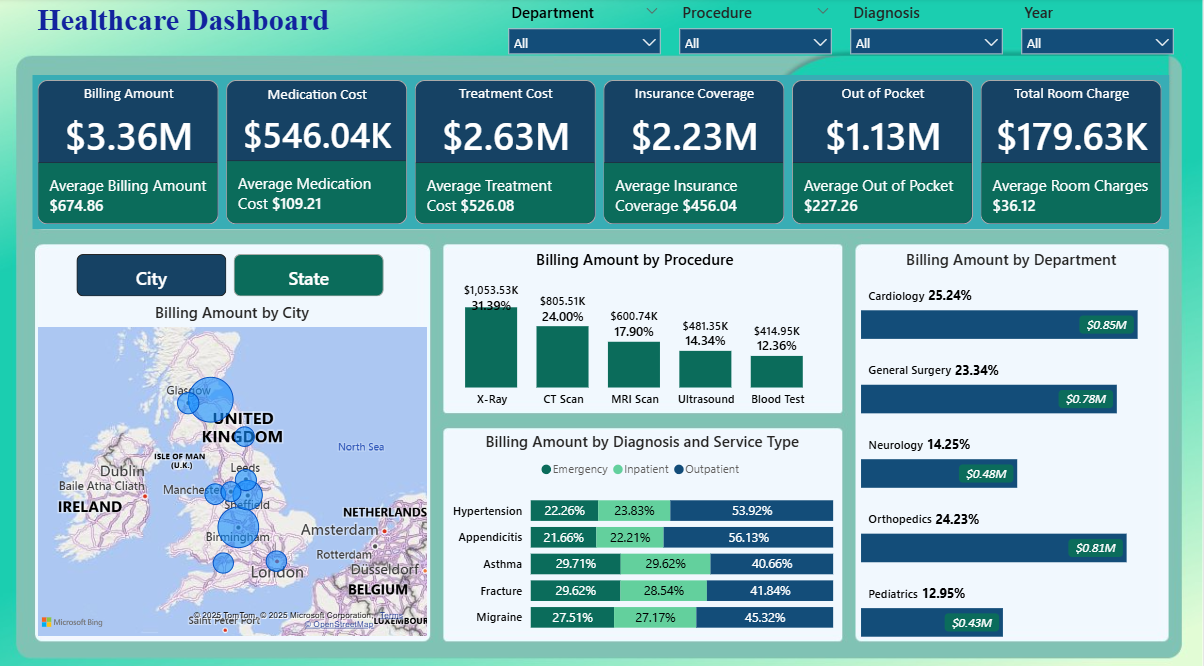

The page's visual inventory and layout, read from the dashboard file:
{"tool":"powerbi","page":{"name":"Healthcare","canvas":[1280,720],"ordinal":0},"visuals":[{"type":"cardVisual","fields":{"Data":["_Measure Table.Total Billing Amount","_Measure Table.Total Medication Cost","_Measure Table.Total Treatment Cost","_Measure Table.Total Insurance Coverage","_Measure Table.Out of Pocket","_Measure Table.Total Room Charge"]},"box":[39.8,82.7,1205,163],"z":0},{"type":"map","title":"Billing Amount by City","fields":{"Category":["Cities Table.City"],"Size":["_Measure Table.Total Billing Amount"]},"box":[39.8,322.9,423.1,359.5],"z":1000},{"type":"advancedSlicerVisual","fields":{"Values":["Location Parameter.Location Parameter"]},"box":[81.1,267.2,337.2,55.7],"z":2000},{"type":"clusteredColumnChart","title":"Billing Amount by Procedure","fields":{"Category":["Procedure Table.Procedure"],"Y":["_Measure Table.Total Billing Amount"]},"box":[462.9,267.2,431.1,176.6],"z":3000},{"type":"hundredPercentStackedBarChart","title":" Billing Amount by Diagnosis and Service Type","fields":{"Category":["Diagnose Table.Diagnosis"],"Y":["_Measure Table.Total Billing Amount"],"Series":["FactVisitsTable.Service Type"]},"box":[478.8,459.7,415.1,225.9],"z":4000},{"type":"clusteredBarChart","title":"Billing Amount by Department","fields":{"Category":["Department Table.Department"],"Y":["_Measure Table.Blank Measure","_Measure Table.Total Billing Amount"]},"box":[913,267.2,329.3,418.3],"z":5000},{"type":"textbox","box":[40.5,0,365.9,50.2],"z":6000},{"type":"slicer","fields":{"Values":["Department Table.Department"]},"box":[534.2,0,181.3,61.5],"z":7000},{"type":"slicer","fields":{"Values":["Procedure Table.Procedure"]},"box":[715.6,0,181.3,61.5],"z":8000},{"type":"slicer","fields":{"Values":["Diagnose Table.Diagnosis"]},"box":[896.9,0,181.3,61.5],"z":9000},{"type":"slicer","fields":{"Values":["Date Table.Year"]},"box":[1078.2,0,181.3,61.5],"z":10000}]}

Visuals, with their boxes in screenshot pixels (x1, y1, x2, y2), scaled from the page's 1280x720 canvas onto the 1204x666 screenshot:
cardVisual - _Measure Table.Total Billing Amount x _Measure Table.Total Medication Cost: BBox(37, 76, 1171, 227)
"Billing Amount by City" map: BBox(37, 299, 435, 631)
advancedSlicerVisual - Location Parameter.Location Parameter: BBox(76, 247, 393, 299)
"Billing Amount by Procedure" clusteredColumnChart: BBox(435, 247, 841, 411)
" Billing Amount by Diagnosis and Service Type" hundredPercentStackedBarChart: BBox(450, 425, 841, 634)
"Billing Amount by Department" clusteredBarChart: BBox(859, 247, 1169, 634)
textbox: BBox(38, 0, 382, 46)
slicer - Department Table.Department: BBox(502, 0, 673, 57)
slicer - Procedure Table.Procedure: BBox(673, 0, 844, 57)
slicer - Diagnose Table.Diagnosis: BBox(844, 0, 1014, 57)
slicer - Date Table.Year: BBox(1014, 0, 1185, 57)
